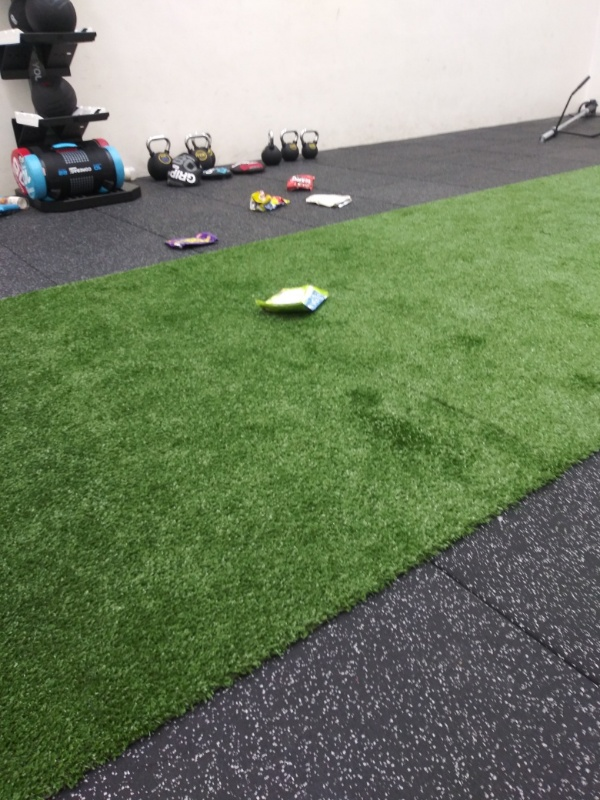bag: (248, 282, 333, 317), (162, 226, 220, 256), (244, 187, 293, 215), (303, 189, 354, 215), (276, 170, 319, 195)
